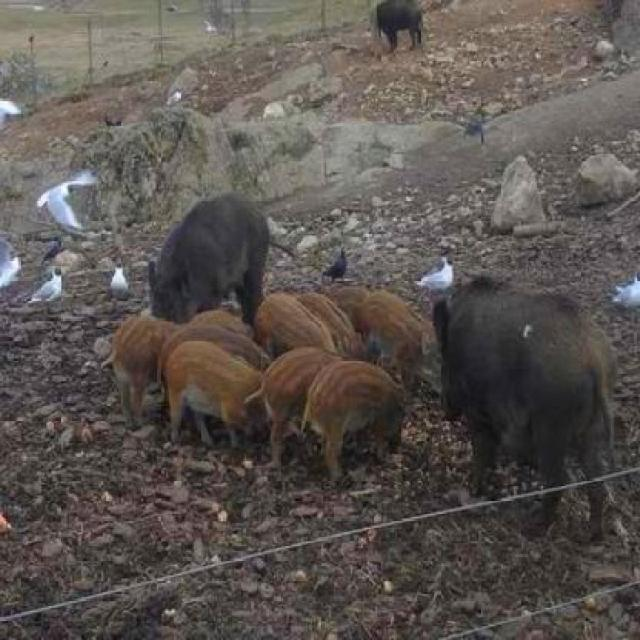Boar: (412, 218, 625, 558), (149, 160, 283, 343), (148, 322, 267, 450), (309, 334, 389, 469), (256, 314, 346, 412), (74, 324, 164, 408), (279, 266, 353, 365), (368, 264, 421, 364)
